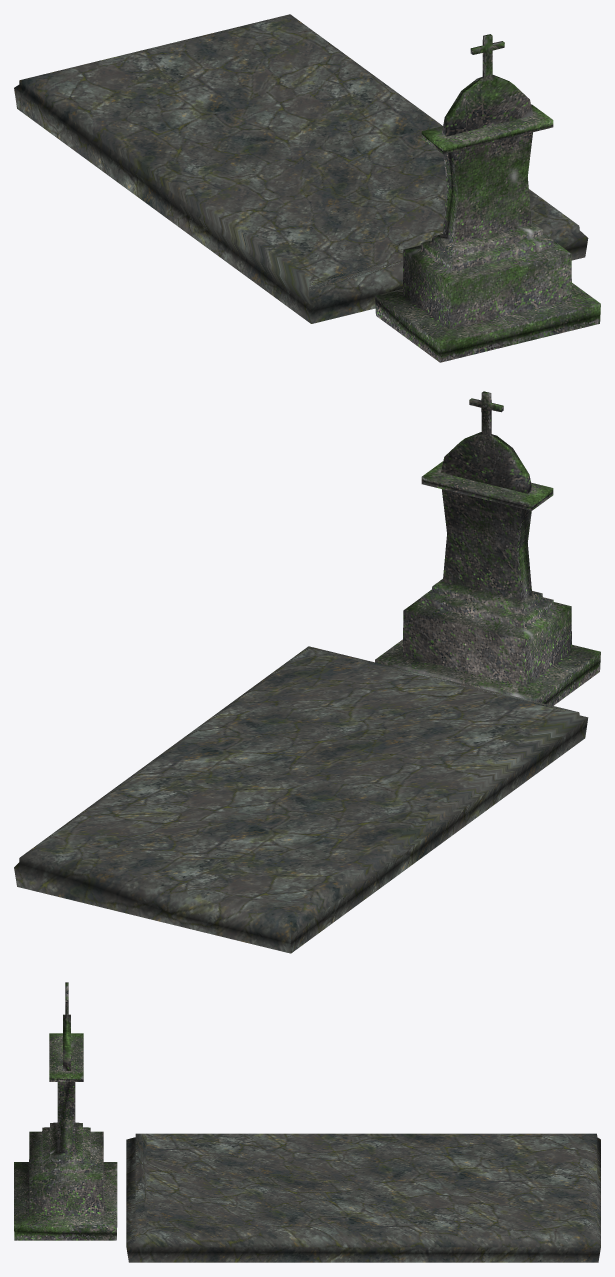
The model's file is Tomb.FBX.
3 renders of one model, top to bottom at view 1: azimuth 30°, elevation 25°; view 2: azimuth 150°, elevation 25°; view 3: azimuth 270°, elevation 25°, orthographic. The views are drawn at different scales.
Parts seen in each view (by area): view 1: Tumba_1; view 2: Tumba_1; view 3: Tumba_1.
Part boxes in pixels (x1,y1,x2,y2): Tumba_1: (14,14,600,362); Tumba_1: (14,391,600,953); Tumba_1: (14,982,600,1262).
Bounding box in the file's own units: 26.31 × 25.73 × 60.56.
